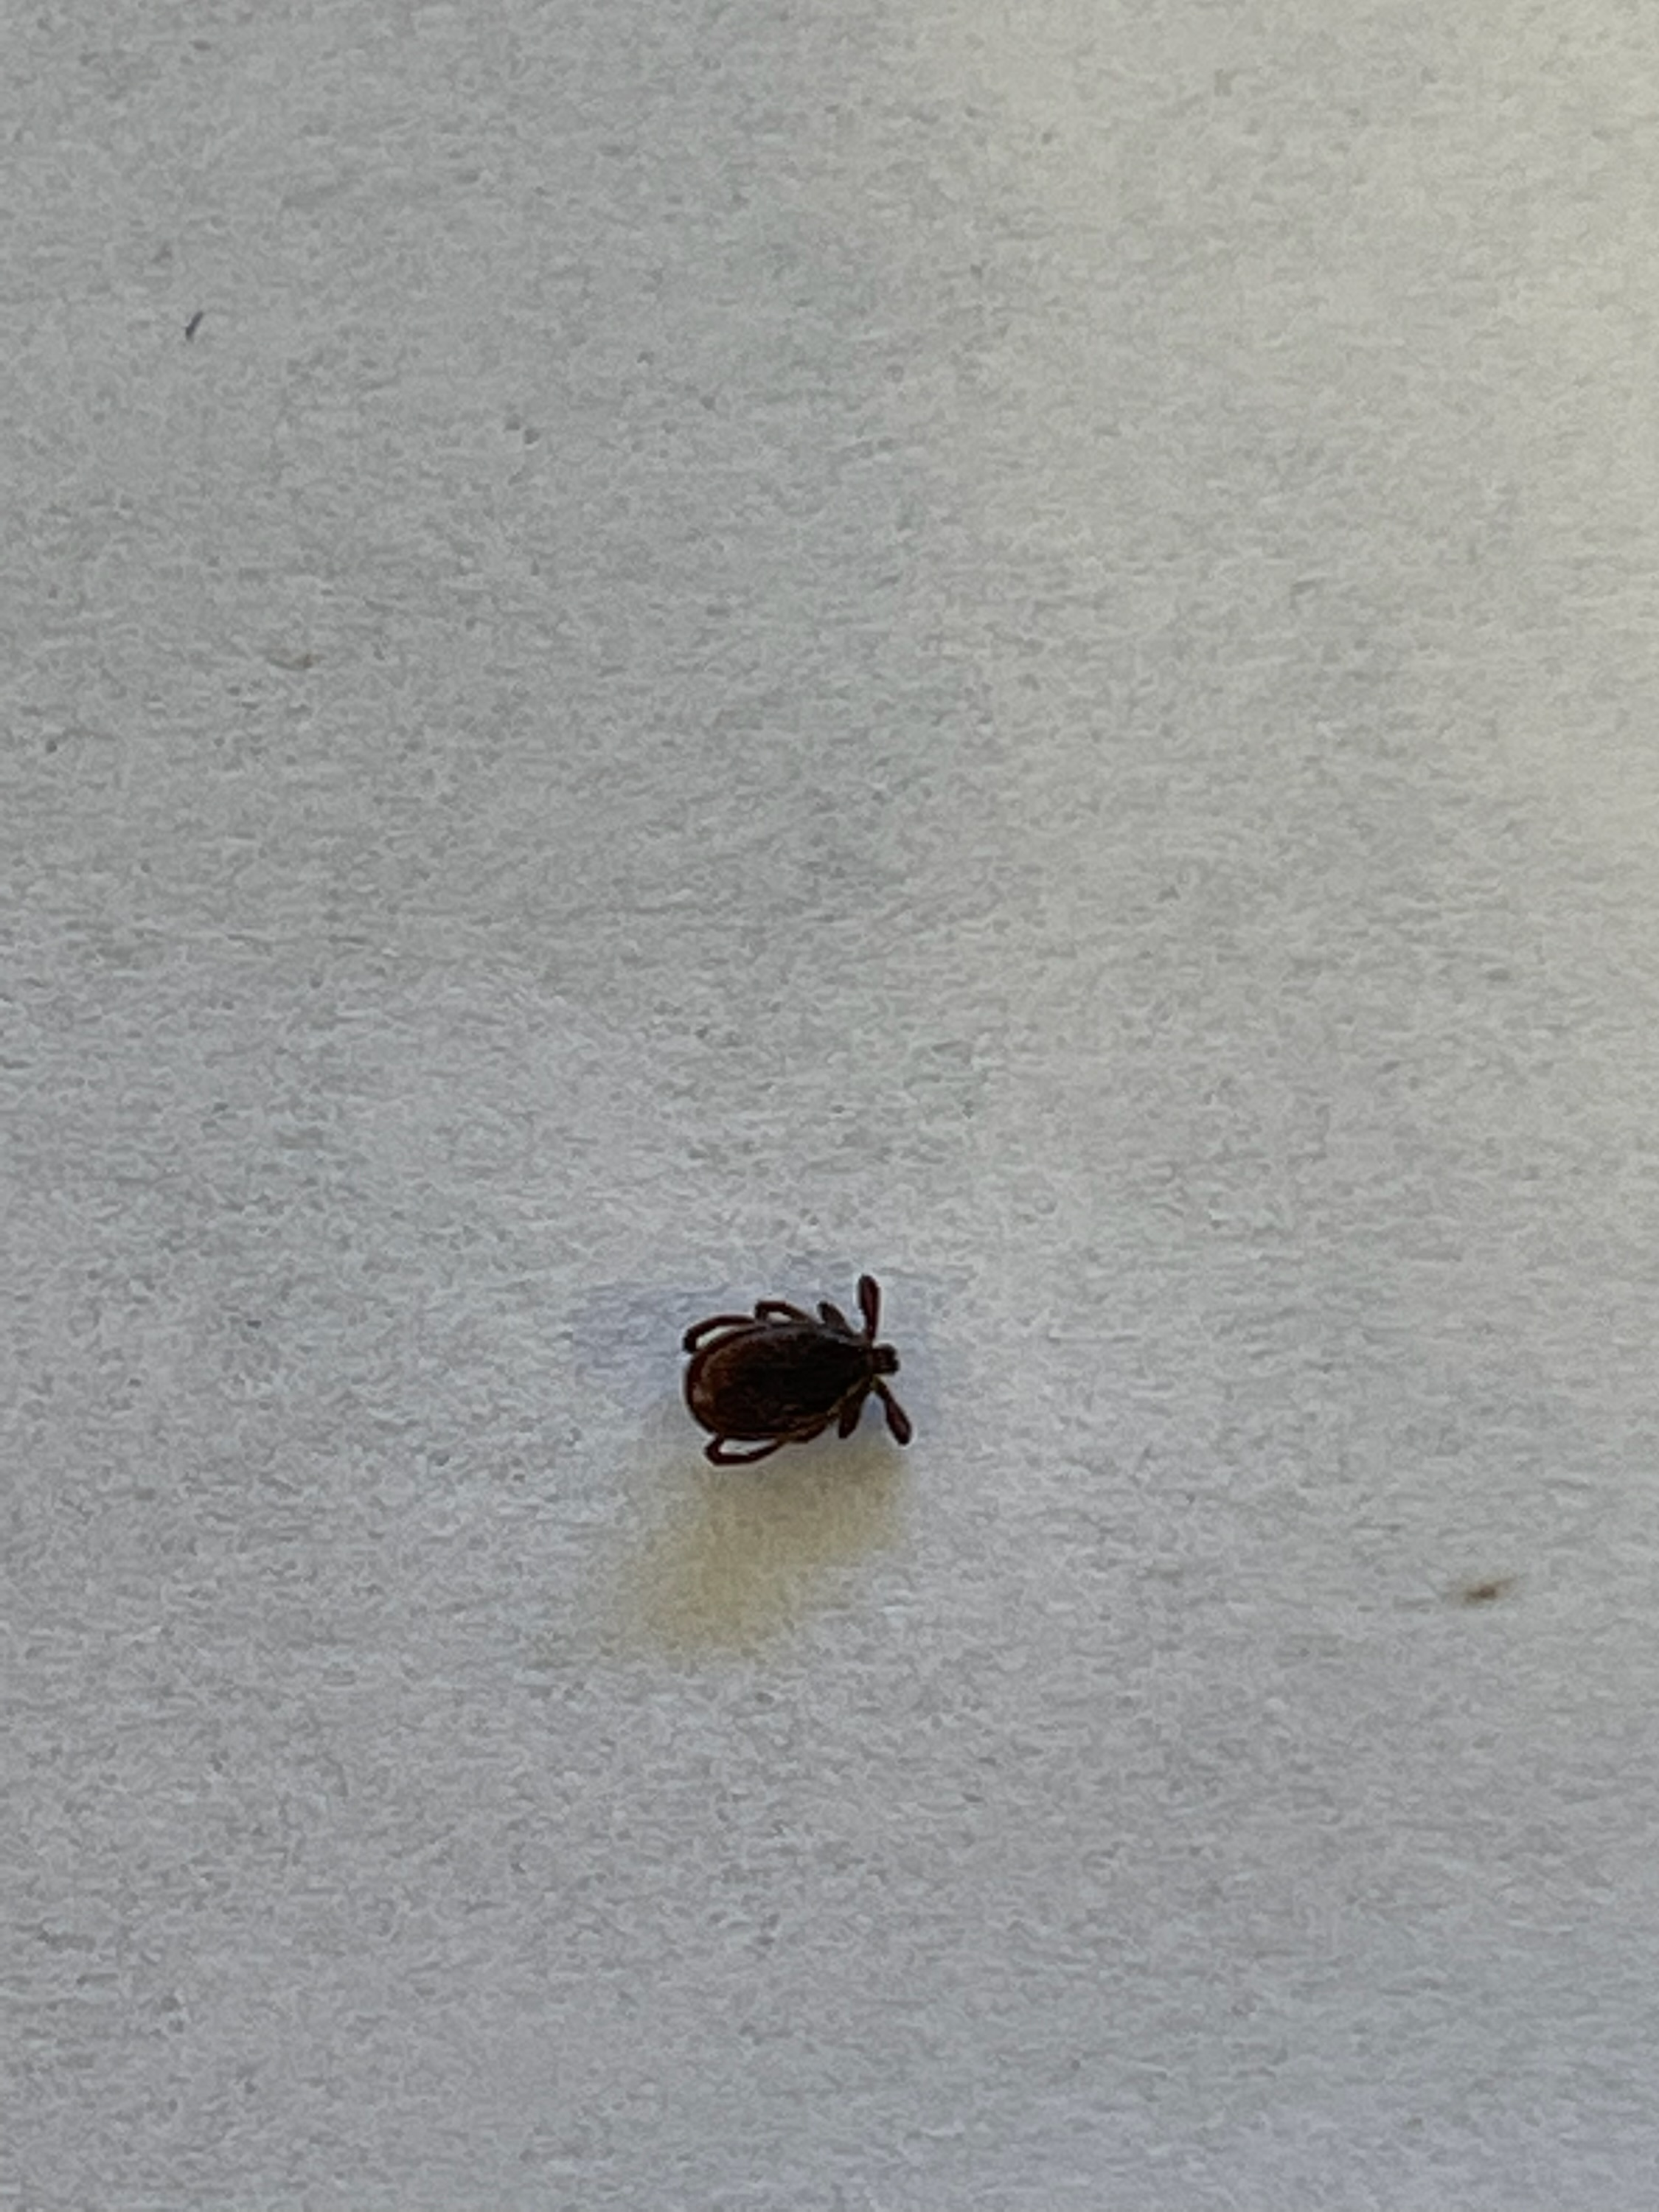unlabelled_tick: (648, 1237, 941, 1479)
